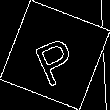P_NW: (28, 25, 82, 85)
